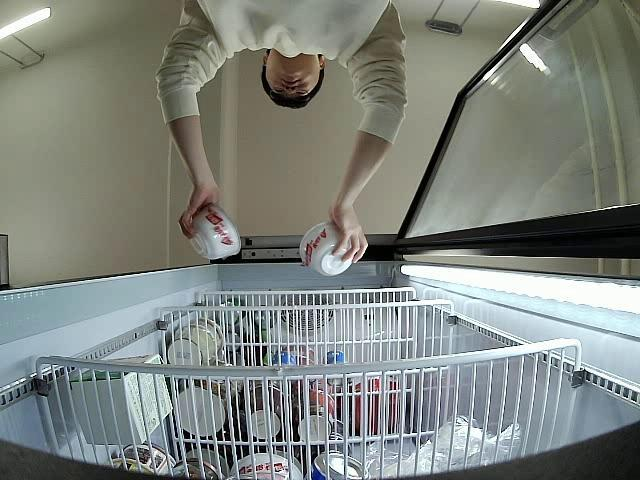09_yukGaeJang: (300, 222, 354, 278), (188, 208, 242, 258)
